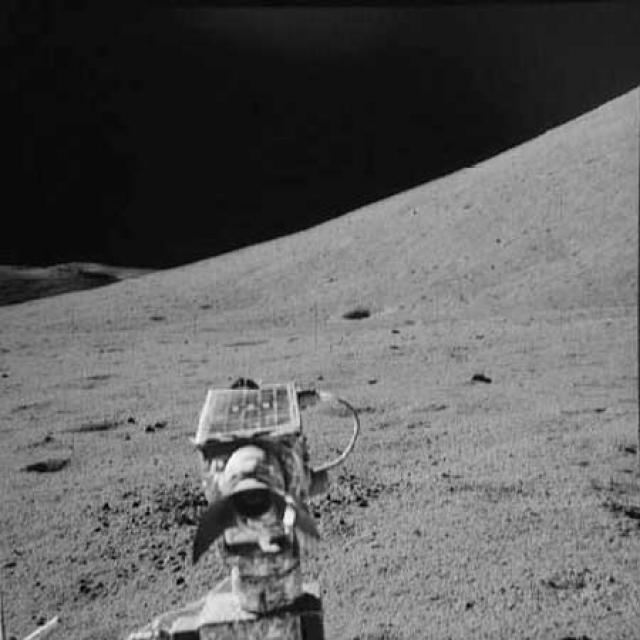artifact: (121, 371, 375, 639)
crater: (57, 410, 131, 436), (12, 453, 76, 475), (332, 299, 382, 325)
